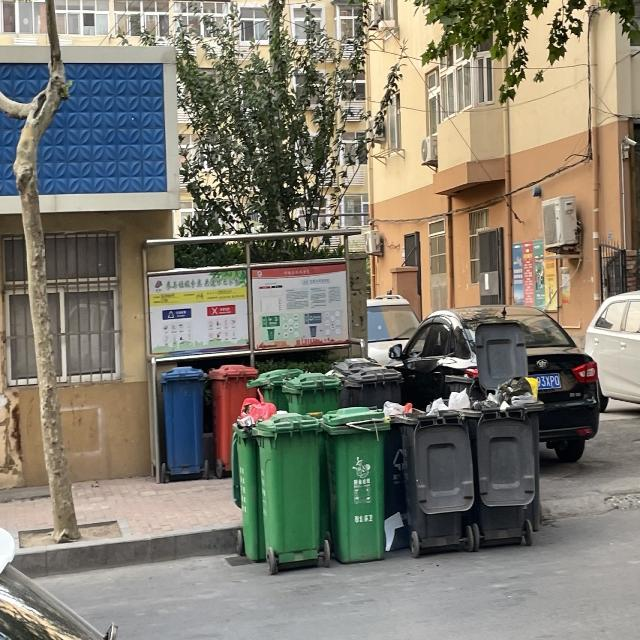garbage_bin: (252, 411, 322, 562), (207, 364, 257, 469), (159, 365, 206, 474), (246, 366, 302, 411), (344, 366, 403, 407), (281, 372, 343, 411)
overflow: (460, 377, 543, 547), (394, 388, 473, 547), (321, 405, 390, 561), (230, 386, 276, 561)
